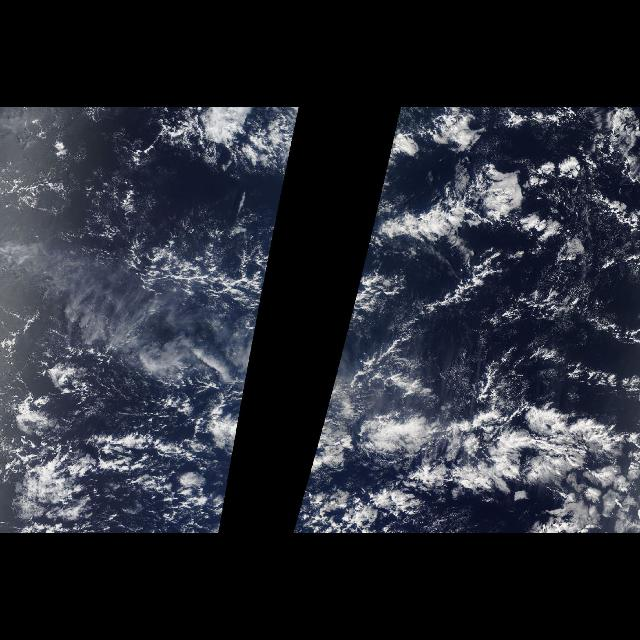Fish: (341, 378, 639, 532)
Sugar: (14, 228, 258, 400)
